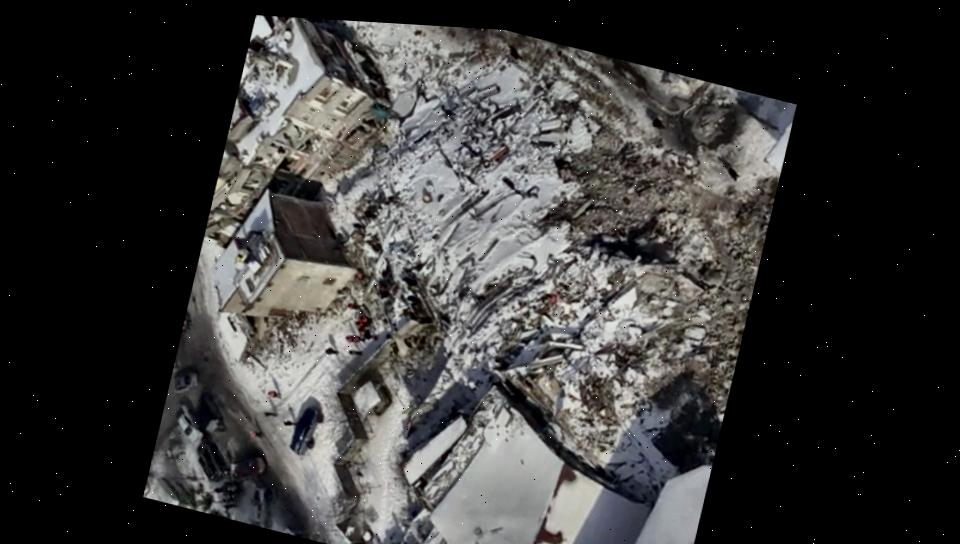kapali: (436, 26, 776, 301)
